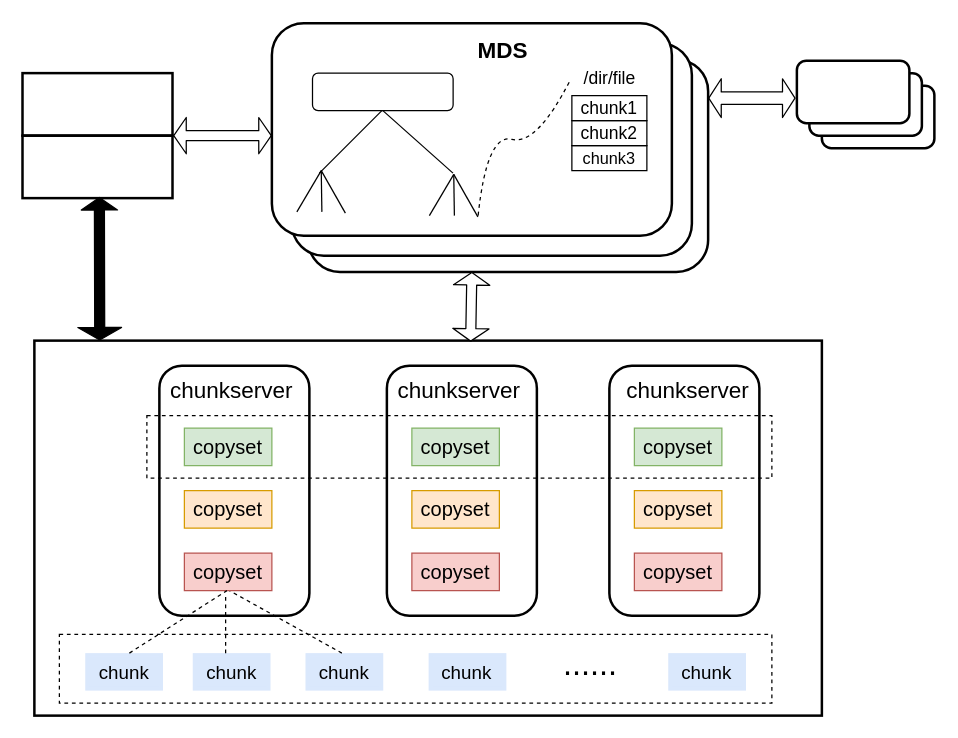
Some shapes in this 958 by 738 pixel diagram are drawn without their labels. Here are the shapes that lost their labels. From the top down, the box of each, then its label:
(21, 71, 173, 136): Application
(311, 72, 453, 111): file namespace
(795, 59, 910, 124): Etcd
(21, 134, 173, 199): client
